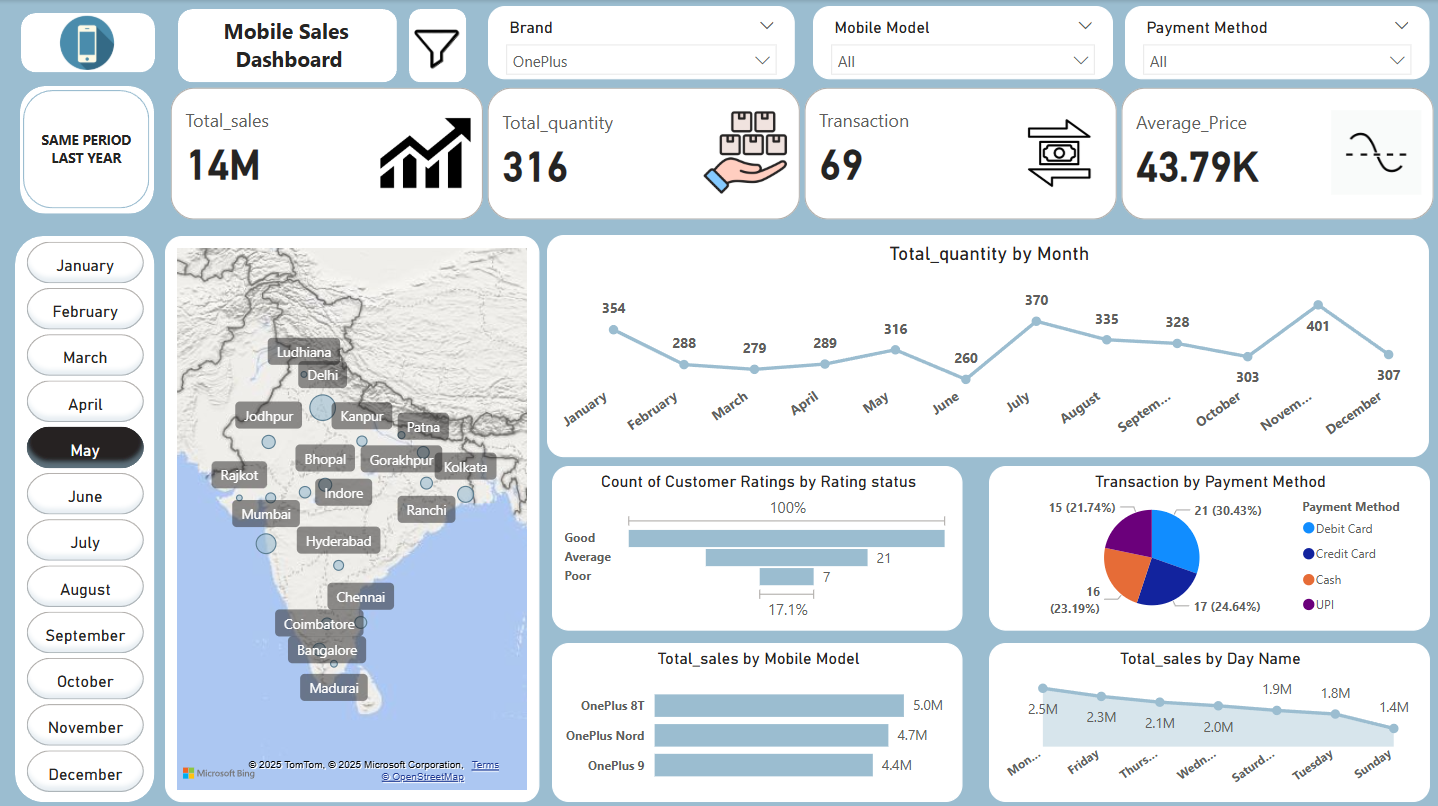

The dashboard page shown, as its layout file describes it:
{"tool":"powerbi","page":{"name":"MOBILE SALES DASHBORAD","canvas":[1280,720],"ordinal":0},"visuals":[{"type":"shape","box":[18.6,76.3,118.8,113.5],"z":0},{"type":"shape","box":[19.2,11.5,118.8,52.7],"z":1000},{"type":"shape","box":[14.4,208.9,123.6,502],"z":2000},{"type":"image","box":[34.5,0,87.2,76.6],"z":3000},{"type":"advancedSlicerVisual","fields":{"Values":["Custom_calender.Date.Variation.Date Hierarchy.Month"]},"box":[19.2,208.9,114,502],"z":4000},{"type":"cardVisual","fields":{"Data":["Sheet1.Total_sales","Sheet1.Total_quantity","Sheet1.Transaction","Sheet1.Average_Price"]},"box":[147.5,72.8,1132.5,127.4],"z":5000},{"type":"slicer","fields":{"Values":["Sheet1.Brand"]},"box":[434,5.7,272.1,65.1],"z":6000},{"type":"slicer","fields":{"Values":["Sheet1.Mobile Model"]},"box":[721.4,5.7,266.3,65.1],"z":7000},{"type":"slicer","fields":{"Values":["Sheet1.Payment Method"]},"box":[998.3,5.7,270.2,65.1],"z":8000},{"type":"shape","box":[363.1,7.7,50.8,65.1],"z":9000},{"type":"shape","box":[159,7.7,194.5,65.1],"z":10000},{"type":"image","box":[358.1,17.4,60.4,52.2],"z":11000},{"type":"textbox","box":[173.4,9.6,166.7,60.4],"z":12000},{"type":"map","fields":{"Category":["Sheet1.City"],"Size":["Sheet1.Total_sales"]},"box":[147.5,208.9,332.5,502],"z":13000},{"type":"lineChart","fields":{"Category":["Custom_calender.Date.Variation.Date Hierarchy.Month"],"Y":["Sheet1.Total_quantity"]},"box":[485.8,208.6,782.3,196.7],"z":14000},{"type":"funnel","fields":{"Category":["Sheet1.Rating status"],"Y":["CountNonNull(Sheet1.Customer Ratings)"]},"box":[490.4,413.6,364.1,146.4],"z":15000},{"type":"pieChart","fields":{"Y":["Sheet1.Transaction"],"Category":["Sheet1.Payment Method"]},"box":[877.4,413.6,390.7,146.4],"z":16000},{"type":"clusteredBarChart","fields":{"Category":["Sheet1.Mobile Model"],"Y":["Sheet1.Total_sales"]},"box":[490.4,570,364.1,140.9],"z":17000},{"type":"areaChart","fields":{"Y":["Sheet1.Total_sales"],"Category":["Custom_calender.Day Name"]},"box":[877.4,570,390.7,140.9],"z":18000},{"type":"pageNavigator","box":[21.3,79.8,112.6,105.5],"z":19000}]}

Visuals, with their boxes in screenshot pixels (x1, y1, x2, y2), scaled from the page's 1280x720 canvas onto the 1438x806 screenshot:
shape: BBox(21, 85, 154, 212)
shape: BBox(22, 13, 155, 72)
shape: BBox(16, 234, 155, 796)
image: BBox(39, 0, 137, 86)
advancedSlicerVisual - Custom_calender.Date.Variation.Date Hierarchy.Month: BBox(22, 234, 150, 796)
cardVisual - Sheet1.Total_sales x Sheet1.Total_quantity: BBox(166, 81, 1437, 224)
slicer - Sheet1.Brand: BBox(488, 6, 793, 79)
slicer - Sheet1.Mobile Model: BBox(810, 6, 1110, 79)
slicer - Sheet1.Payment Method: BBox(1122, 6, 1425, 79)
shape: BBox(408, 9, 465, 81)
shape: BBox(179, 9, 397, 81)
image: BBox(402, 19, 470, 78)
textbox: BBox(195, 11, 382, 78)
map - Sheet1.City x Sheet1.Total_sales: BBox(166, 234, 539, 796)
lineChart - Custom_calender.Date.Variation.Date Hierarchy.Month x Sheet1.Total_quantity: BBox(546, 234, 1425, 454)
funnel - Sheet1.Rating status x CountNonNull(Sheet1.Customer Ratings): BBox(551, 463, 960, 627)
pieChart - Sheet1.Transaction x Sheet1.Payment Method: BBox(986, 463, 1425, 627)
clusteredBarChart - Sheet1.Mobile Model x Sheet1.Total_sales: BBox(551, 638, 960, 796)
areaChart - Sheet1.Total_sales x Custom_calender.Day Name: BBox(986, 638, 1425, 796)
pageNavigator: BBox(24, 89, 150, 207)
